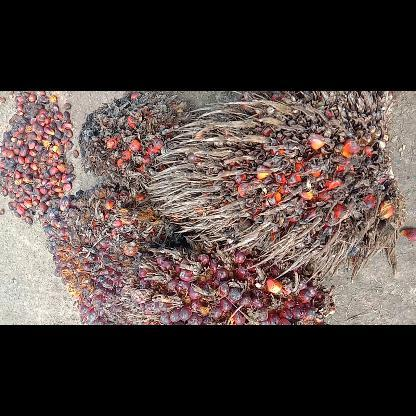TBS masak: (44, 184, 182, 324), (124, 240, 330, 324)
Terlalu masak: (146, 91, 406, 282), (77, 90, 193, 188)
